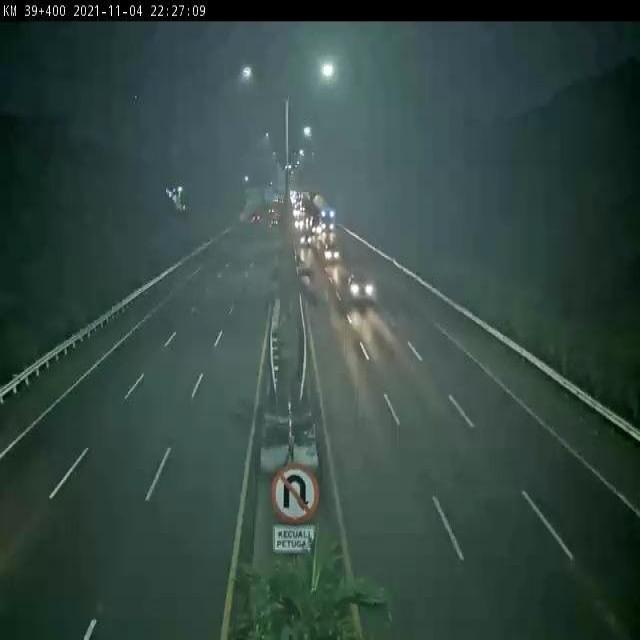car: (349, 272, 373, 305), (322, 242, 339, 262)
